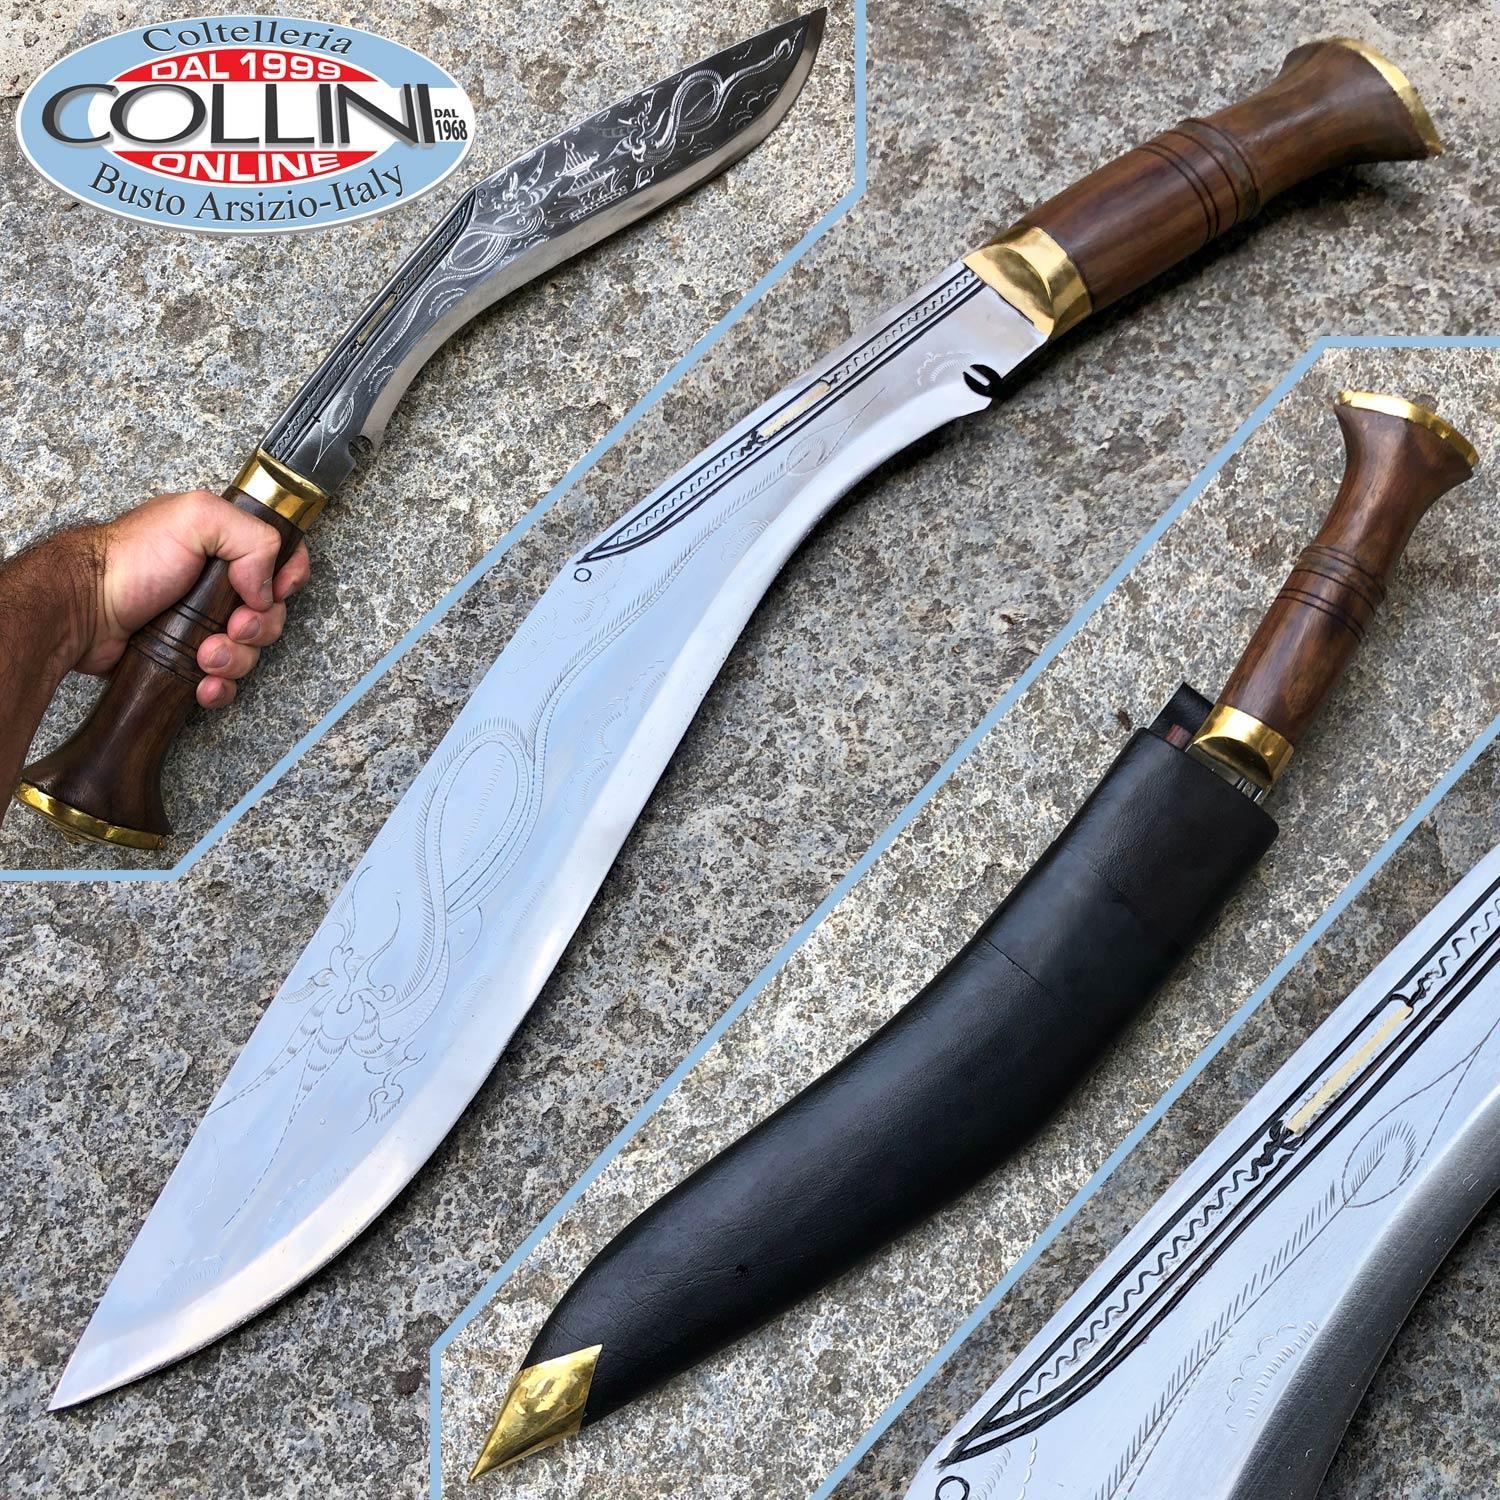facao: (60, 40, 1430, 1405), (475, 387, 1473, 1473), (18, 5, 823, 845)
